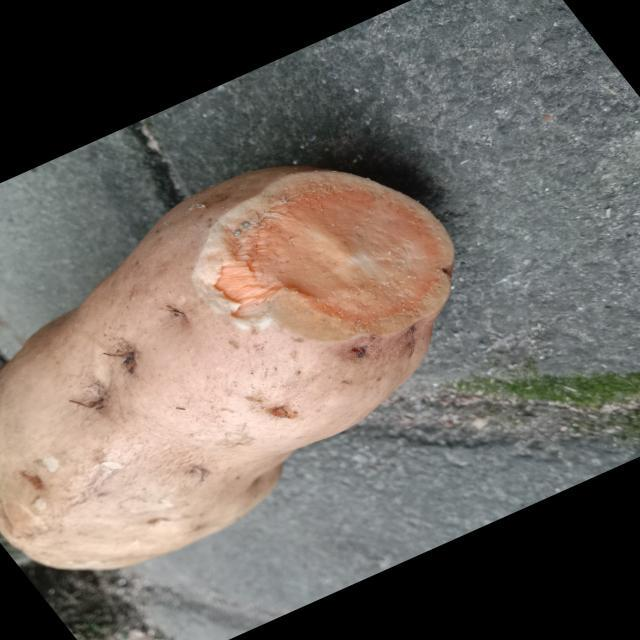Healthy Sweet Potato: (193, 168, 453, 341)
